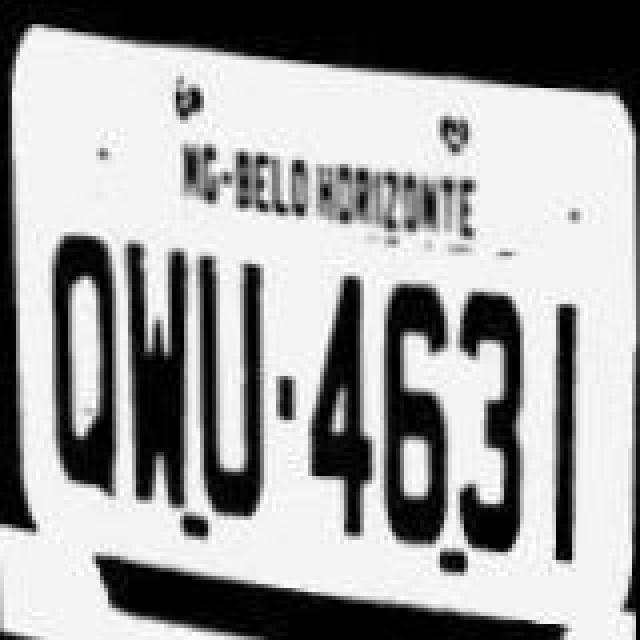1: (530, 298, 590, 554)
3: (456, 286, 536, 550)
4: (298, 264, 374, 544)
6: (374, 276, 458, 544)
Q: (40, 232, 132, 500)
U: (188, 242, 272, 518)
W: (118, 240, 198, 512)
